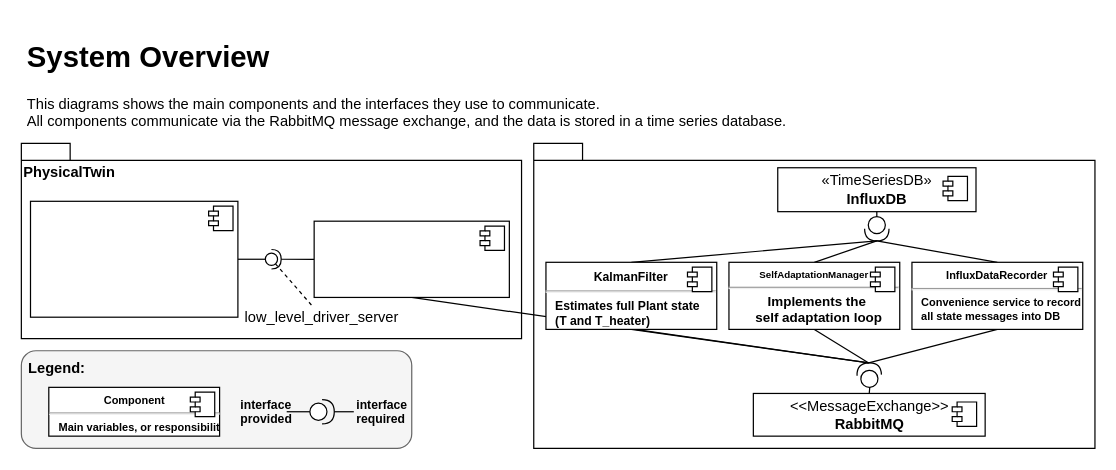
The diagram is 1116 pixels wide and 470 high, and some of its shapes have lost their labels. Here are the shapes that lost their labels. From the top down, the box of each, then its label:
(29, 200, 238, 317): Plant + T: Int # Air temperature + heater_on: Bool # Status of heater
(313, 220, 509, 297): Controller
(533, 142, 1095, 448): DigitalTwin
